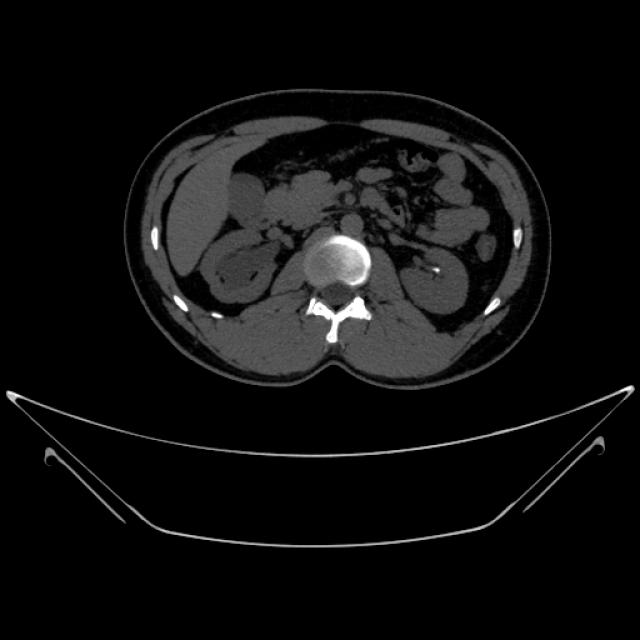kidney: (199, 227, 290, 306), (397, 238, 470, 320)
stone: (428, 263, 444, 275)
